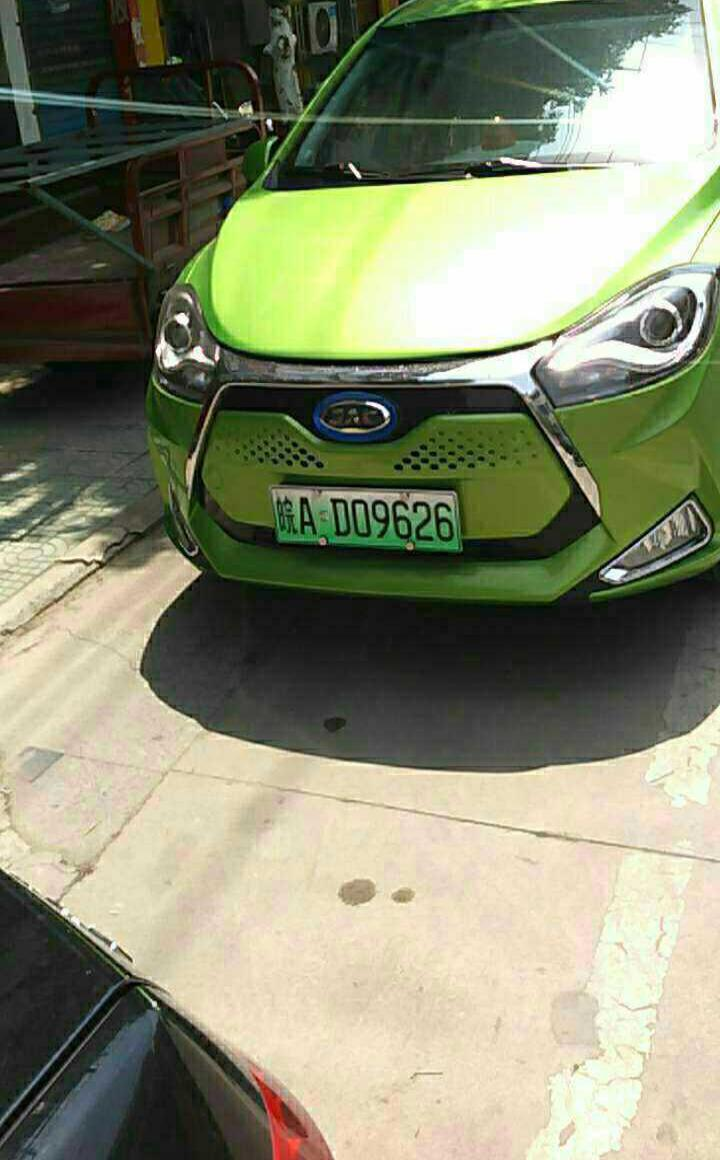car_green: (268, 484, 468, 556)
